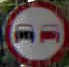No overtake: (1, 2, 65, 65)
